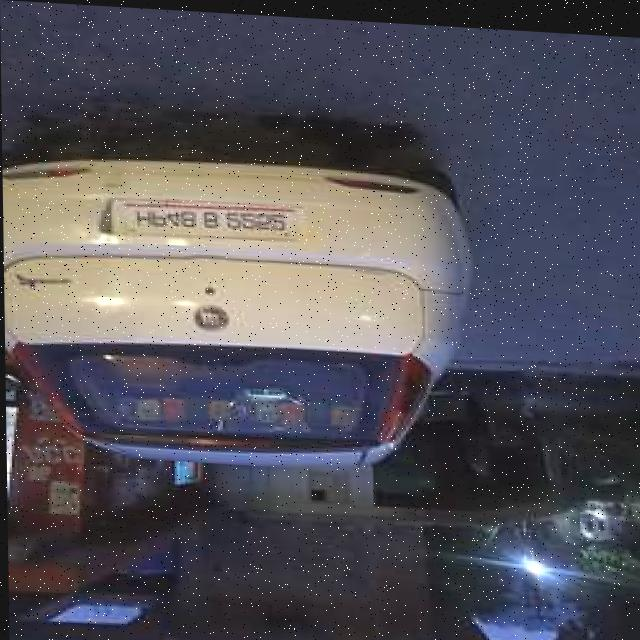plate: (125, 197, 295, 242)
